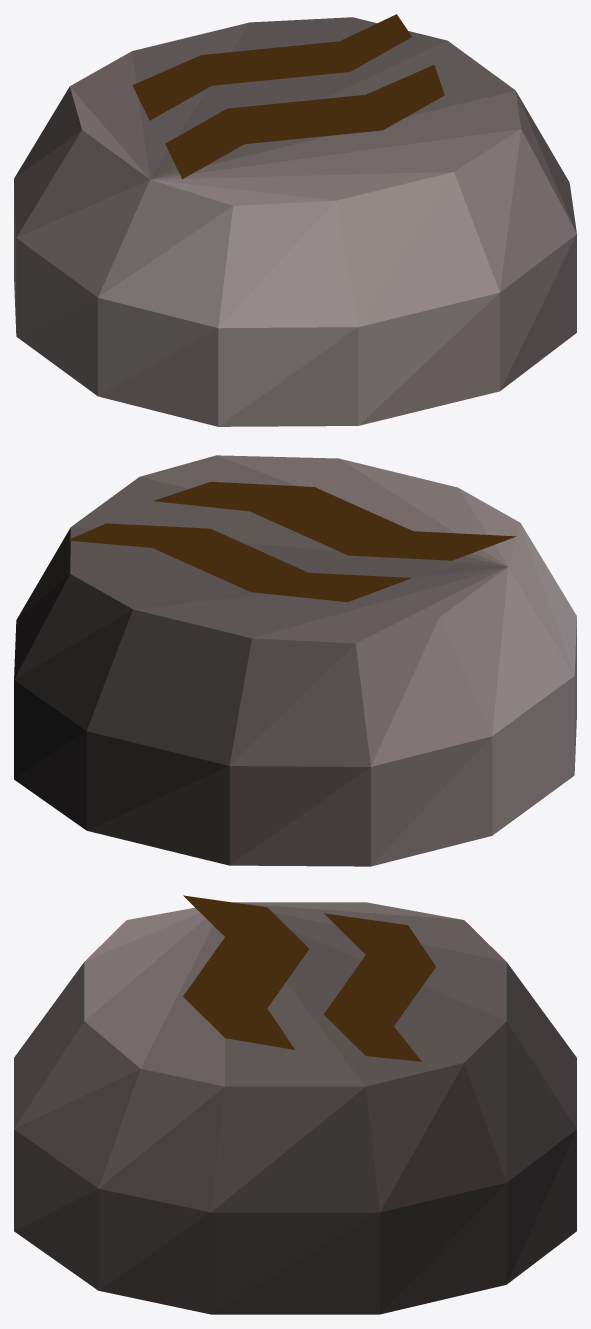
The model's file is earth.obj.
3 views of the same model, one above another, from view 1: azimuth 30°, elevation 25°; view 2: azimuth 150°, elevation 25°; view 3: azimuth 270°, elevation 25° (orthographic). The views are drawn at different scales.
Parts seen in each view (by area): view 1: Item Earth rune 2026-09-20_20-15-22; view 2: Item Earth rune 2026-09-20_20-15-22; view 3: Item Earth rune 2026-09-20_20-15-22.
Boxes of the visible parts, x1,y1,x2,y2 form: Item Earth rune 2026-09-20_20-15-22: (14,14,576,426); Item Earth rune 2026-09-20_20-15-22: (14,455,576,866); Item Earth rune 2026-09-20_20-15-22: (14,895,576,1314).
Size of the model in its own units: 40 by 17 by 40.
